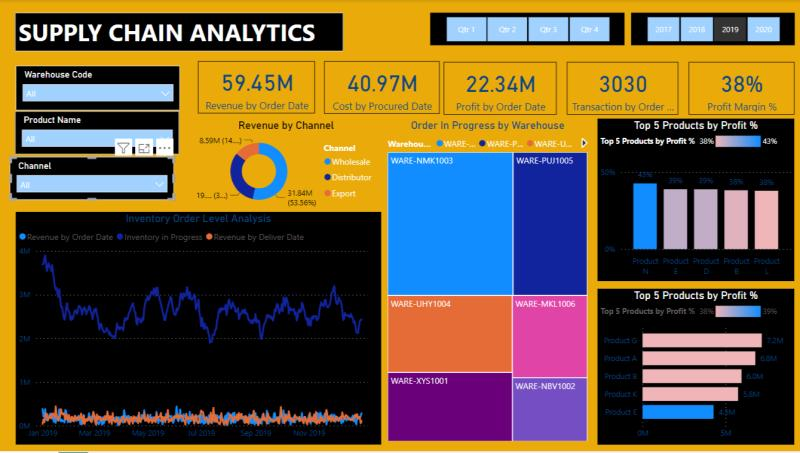

Layout of this report page (visuals, bound fields, positions):
{"tool":"powerbi","page":{"name":"Supply Chain ","canvas":[1280,720],"ordinal":0},"visuals":[{"type":"card","fields":{"Values":["Specific Calculation.Cost by Procured Date"]},"box":[520,97.3,184.2,84.3],"z":0},{"type":"slicer","fields":{"Values":["Dates.Year"]},"box":[1009.2,20.2,260.6,52.4],"z":1000},{"type":"slicer","fields":{"Values":["Dates.Date.Variation.Date Hierarchy.Quarter"]},"box":[689.1,20.2,309.4,52.4],"z":2000},{"type":"card","fields":{"Values":["Specific Calculation.Revenue by Oder Date"]},"box":[319,97.3,186.7,83],"z":3000},{"type":"textbox","box":[27.4,20.2,523.4,61.9],"z":4000},{"type":"lineChart","title":"Inventory Order Level Analysis","fields":{"Category":["Dates.Date"],"Y":["Specific Calculation.Revenue by Order Date","Specific Calculation.Inventory in Progress","Specific Calculation.Revenue by Deliver Date"]},"box":[28.5,338.5,582.3,370.9],"z":5000},{"type":"slicer","fields":{"Values":["Warehouse.Warehouse Code"]},"box":[28.6,104.7,261.8,71.4],"z":6000},{"type":"slicer","fields":{"Values":["Products.Product Name"]},"box":[27.2,177.7,262,68.7],"z":7000},{"type":"slicer","fields":{"Values":["Sales.Channel"]},"box":[19,249.9,261.8,69],"z":8000},{"type":"card","fields":{"Values":["Specific Calculation.Profit by Order Date"]},"box":[710.7,98.6,180.3,84.3],"z":9000},{"type":"card","fields":{"Values":["Specific Calculation.Profit Margin %"]},"box":[1101,98.6,168.6,84.3],"z":10000},{"type":"card","fields":{"Values":["Specific Calculation.Transaction by Order Date"]},"box":[906.5,98.6,177.7,84.3],"z":11000},{"type":"columnChart","title":"Top 5 Products by Profit %","fields":{"Category":["Products.Product Name"],"Y":["Specific Calculation.Top 5 Products by Profit %"]},"box":[955.8,189.3,313.8,259.4],"z":12000},{"type":"clusteredBarChart","title":"Top 5 Products by Profit %","fields":{"Category":["Products.Product Name"],"Y":["Specific Calculation.Top 5 Products by Cost"]},"box":[955.8,460.4,313.8,249],"z":13000},{"type":"treemap","title":"Order In Progress by Warehouse","fields":{"Values":["Specific Calculation.Order In Progress"],"Group":["Warehouse.Warehouse Code"]},"box":[616.8,189.2,328.1,519.8],"z":14000},{"type":"donutChart","title":"Revenue by Channel","fields":{"Y":["Specific Calculation.Revenue by Order Date"],"Category":["Sales.Channel"]},"box":[308.7,189.3,302.2,149.1],"z":16000}]}

Visuals, with their boxes in screenshot pixels (x1, y1, x2, y2), scaled from the page's 1280x720 canvas onto the 800x453 screenshot:
card - Specific Calculation.Cost by Procured Date: x1=325, y1=61, x2=440, y2=114
slicer - Dates.Year: x1=631, y1=13, x2=794, y2=46
slicer - Dates.Date.Variation.Date Hierarchy.Quarter: x1=431, y1=13, x2=624, y2=46
card - Specific Calculation.Revenue by Oder Date: x1=199, y1=61, x2=316, y2=113
textbox: x1=17, y1=13, x2=344, y2=52
"Inventory Order Level Analysis" lineChart: x1=18, y1=213, x2=382, y2=446
slicer - Warehouse.Warehouse Code: x1=18, y1=66, x2=182, y2=111
slicer - Products.Product Name: x1=17, y1=112, x2=181, y2=155
slicer - Sales.Channel: x1=12, y1=157, x2=176, y2=201
card - Specific Calculation.Profit by Order Date: x1=444, y1=62, x2=557, y2=115
card - Specific Calculation.Profit Margin %: x1=688, y1=62, x2=794, y2=115
card - Specific Calculation.Transaction by Order Date: x1=567, y1=62, x2=678, y2=115
"Top 5 Products by Profit %" columnChart: x1=597, y1=119, x2=794, y2=282
"Top 5 Products by Profit %" clusteredBarChart: x1=597, y1=290, x2=794, y2=446
"Order In Progress by Warehouse" treemap: x1=386, y1=119, x2=591, y2=446
"Revenue by Channel" donutChart: x1=193, y1=119, x2=382, y2=213
